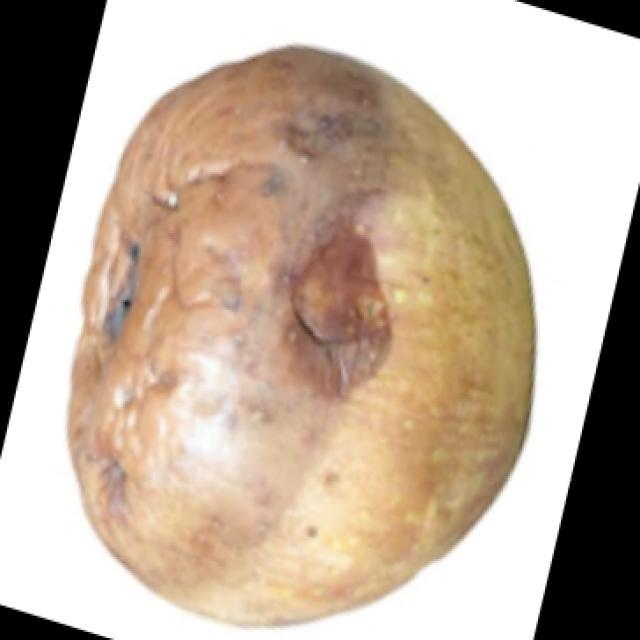Rotten: (82, 46, 528, 626)
